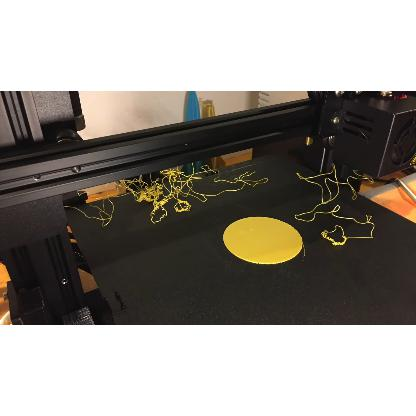fail: (118, 166, 228, 228), (302, 172, 378, 244)
